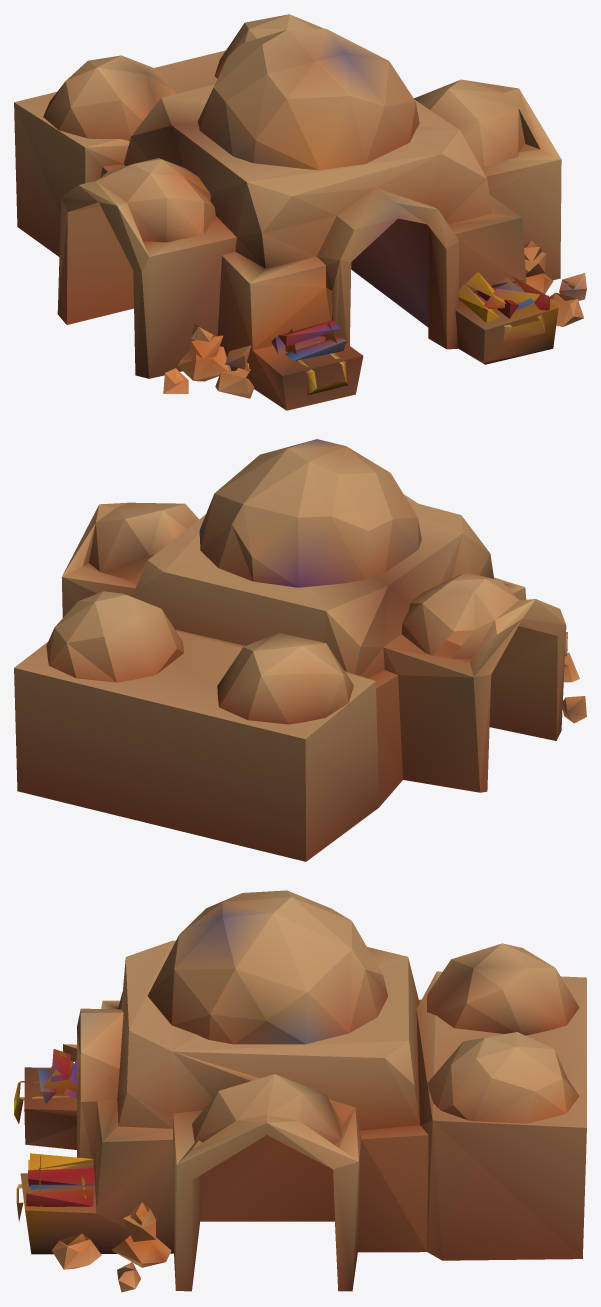
The model's file is toki_lo.glb.
3 renders of one model, top to bottom at view 1: azimuth 30°, elevation 25°; view 2: azimuth 150°, elevation 25°; view 3: azimuth 270°, elevation 25°, orthographic. The views are drawn at different scales.
Visible parts, largest first — view 1: geometry_0; view 2: geometry_0; view 3: geometry_0.
Boxes of the visible parts, bbox=[...] form: geometry_0: bbox=[14, 14, 586, 410]; geometry_0: bbox=[14, 439, 586, 861]; geometry_0: bbox=[14, 890, 586, 1292].
Bounding box in the file's own units: 0.8486 × 0.5113 × 0.939.
